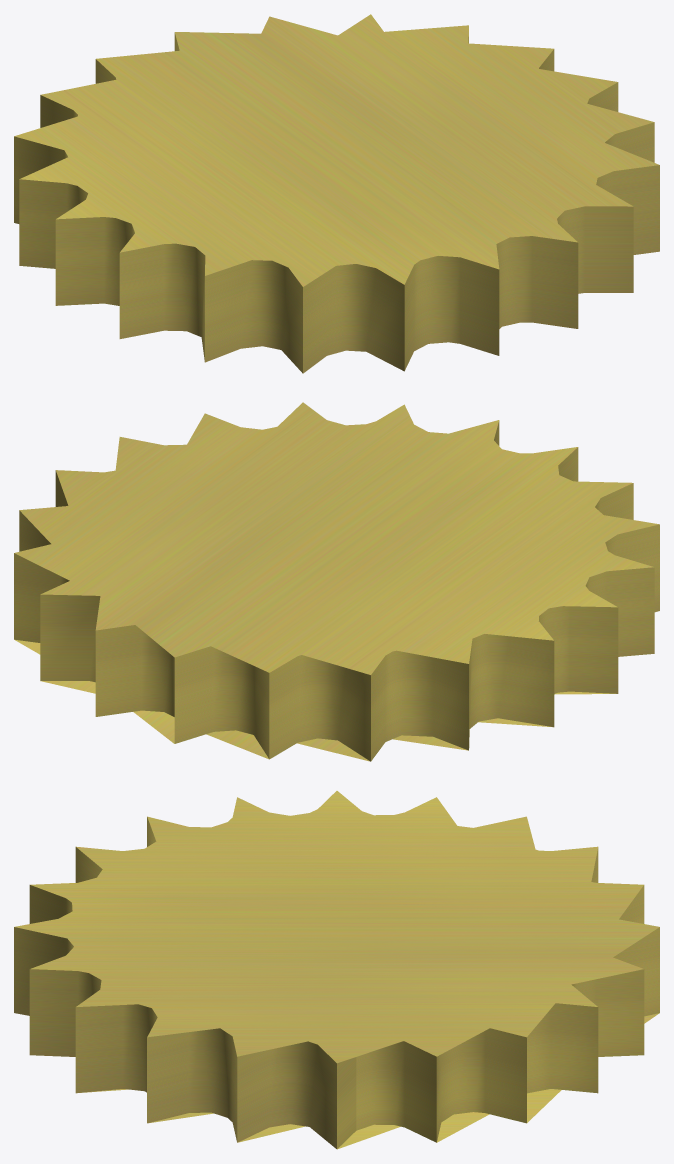
The model's file is SprocketFacet020.fbx.
3 renders of one model, top to bottom at view 1: azimuth 30°, elevation 25°; view 2: azimuth 150°, elevation 25°; view 3: azimuth 270°, elevation 25°, orthographic.
Visible parts, largest first — view 1: SprocketFacet020; view 2: SprocketFacet020; view 3: SprocketFacet020.
Part boxes in pixels (box(x1,y1,x2,y2)): SprocketFacet020: box(14, 14, 659, 373); SprocketFacet020: box(14, 402, 659, 761); SprocketFacet020: box(14, 791, 659, 1149).
Bounding box in the file's own units: 134 × 19.69 × 134.
